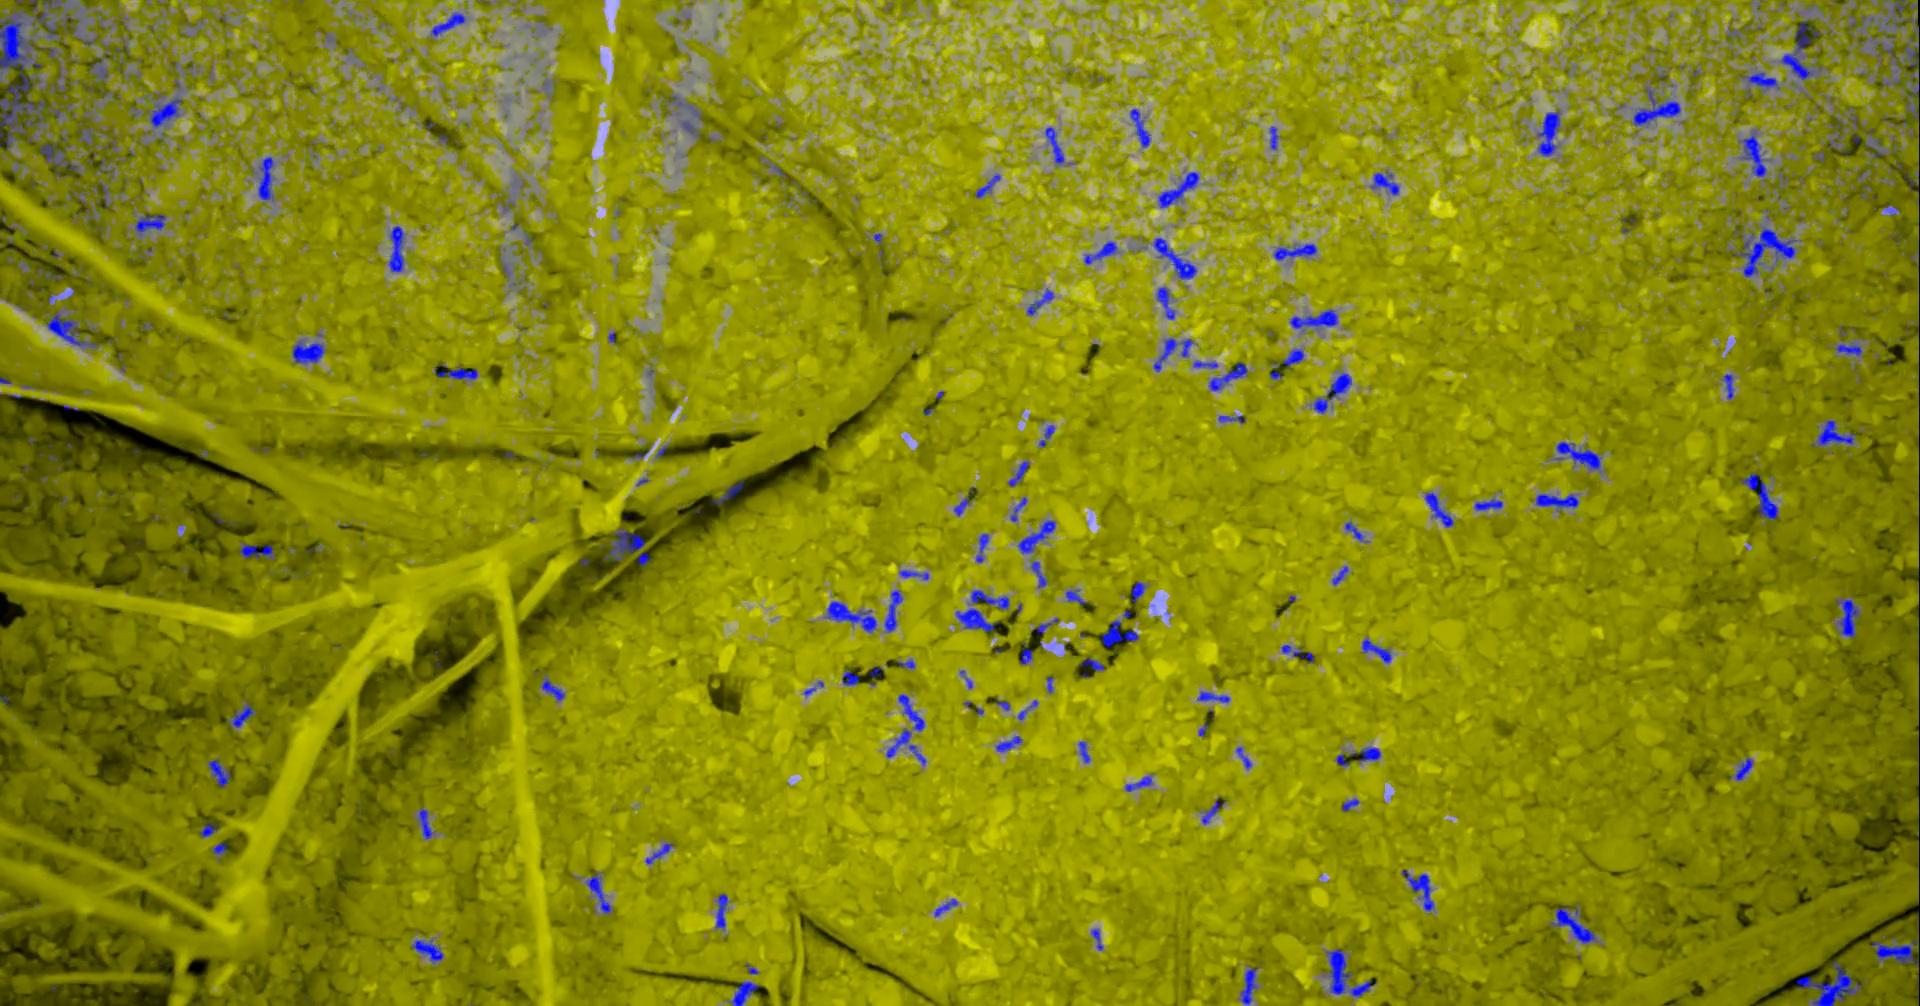ant: (1327, 948, 1378, 996), (1782, 20, 1821, 79), (1634, 86, 1683, 127), (48, 311, 99, 347), (604, 528, 651, 567), (1156, 238, 1197, 279), (1552, 904, 1597, 942), (1742, 473, 1779, 520), (1312, 372, 1352, 413), (828, 601, 877, 633), (1872, 932, 1920, 964), (41, 140, 81, 177), (1556, 441, 1603, 473), (1161, 171, 1201, 207), (1154, 337, 1194, 371), (1740, 130, 1768, 177), (1403, 869, 1435, 909), (1018, 520, 1057, 553), (1890, 0, 1920, 39), (1905, 43, 1920, 121), (587, 871, 613, 913), (1210, 362, 1250, 390), (34, 11, 77, 37), (1815, 420, 1857, 446), (957, 608, 1001, 633), (1426, 492, 1455, 527), (1102, 620, 1140, 647), (1291, 309, 1338, 330), (151, 97, 184, 127), (1539, 111, 1561, 156), (899, 694, 926, 730), (1837, 600, 1862, 636), (432, 11, 467, 36), (885, 589, 904, 633), (1084, 241, 1120, 264), (1131, 108, 1152, 147), (293, 339, 326, 363), (1837, 325, 1863, 356), (1363, 638, 1393, 663), (1275, 243, 1318, 260), (1537, 493, 1580, 511), (390, 225, 406, 271), (712, 480, 745, 503), (411, 939, 444, 962), (971, 589, 1011, 608), (888, 728, 913, 757), (136, 213, 168, 236), (259, 156, 276, 199), (1029, 287, 1055, 314), (1371, 171, 1401, 196), (731, 981, 761, 1005), (1046, 127, 1065, 164), (1241, 967, 1258, 1005), (436, 365, 479, 380), (229, 702, 255, 727), (1203, 798, 1227, 824), (210, 760, 232, 788), (1743, 71, 1782, 88), (955, 489, 979, 514), (1158, 286, 1176, 319), (241, 542, 277, 559), (1283, 644, 1316, 662), (977, 174, 1002, 197), (1010, 460, 1030, 486), (648, 843, 676, 862), (1731, 756, 1754, 779), (1276, 348, 1305, 366), (1346, 521, 1369, 542), (543, 678, 566, 700), (419, 808, 434, 840), (1351, 746, 1382, 761), (1032, 560, 1049, 588), (716, 893, 729, 929), (1126, 775, 1153, 791), (1032, 617, 1060, 633), (1012, 495, 1029, 521), (1018, 699, 1039, 719), (997, 735, 1023, 751), (936, 898, 959, 916), (977, 533, 990, 561), (1040, 424, 1057, 447), (1237, 746, 1253, 768), (1199, 691, 1230, 702), (1476, 498, 1503, 511), (1067, 589, 1090, 605), (910, 744, 928, 763), (93, 57, 109, 77), (1131, 580, 1147, 602), (202, 821, 221, 837), (39, 267, 63, 279), (1333, 567, 1350, 584), (1083, 657, 1106, 669), (902, 569, 930, 579), (1079, 741, 1092, 762), (213, 842, 229, 860), (1022, 641, 1034, 664), (1724, 373, 1735, 399), (843, 669, 860, 685), (1092, 929, 1103, 949), (100, 182, 109, 207), (1194, 359, 1219, 368), (1343, 798, 1361, 810), (1271, 126, 1280, 149), (683, 121, 698, 133), (1910, 173, 1920, 192), (1219, 415, 1244, 423), (44, 0, 67, 8), (899, 658, 916, 668), (1338, 753, 1351, 765), (1919, 813, 1920, 874), (1919, 730, 1920, 784)
